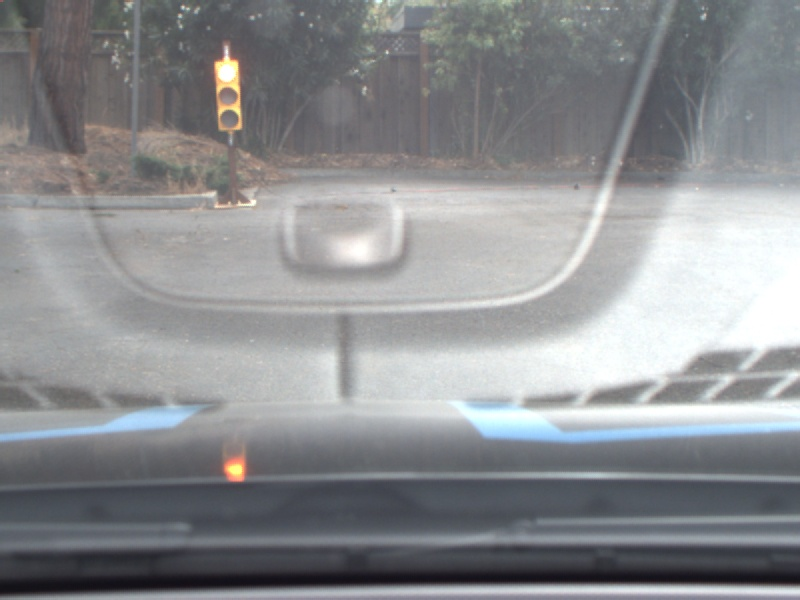red: (209, 58, 248, 134)
